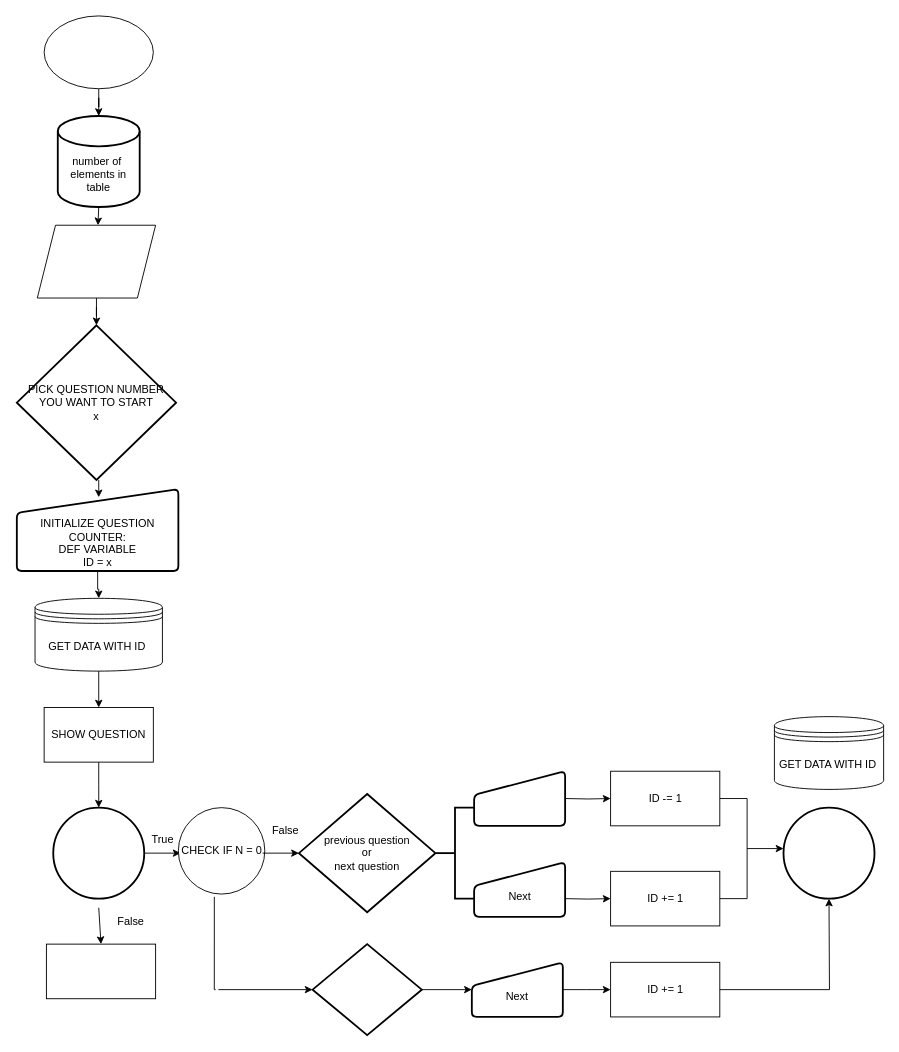
Image size: 899x1052. Some labels were removed from this diagram. Here are the shapes that lost their labels. From the top down, the centre of each, then its label:
At pixel 98 52: "START".
At pixel 96 261: "def N = number of elements in table".
At pixel 519 798: "Previous".
At pixel 98 852: "check if ID <= N".
At pixel 828 852: "check if ID <= index".
At pixel 366 989: "next question".
